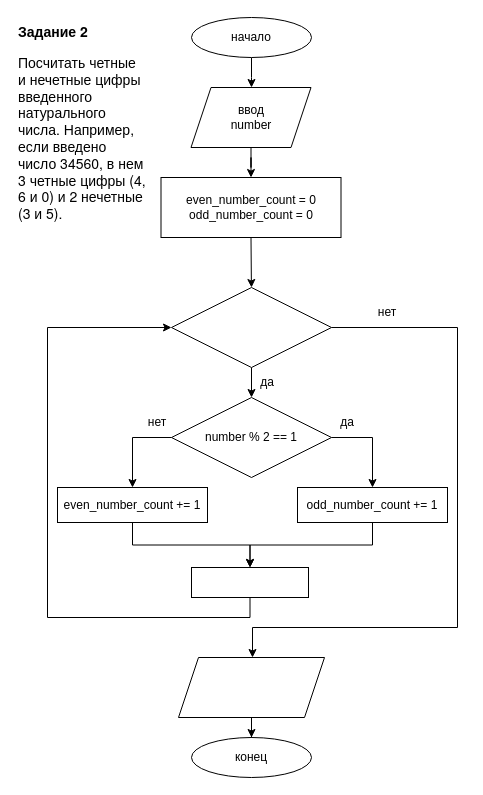
This 483x795 diagram has some shape labels left out. Here are the shapes that lost their labels. From the top down, the box of each, then its label:
(170, 286, 332, 368): number != 0
(190, 566, 308, 598): number //= 10
(178, 656, 324, 718): вывод even_number_count odd_number_count
